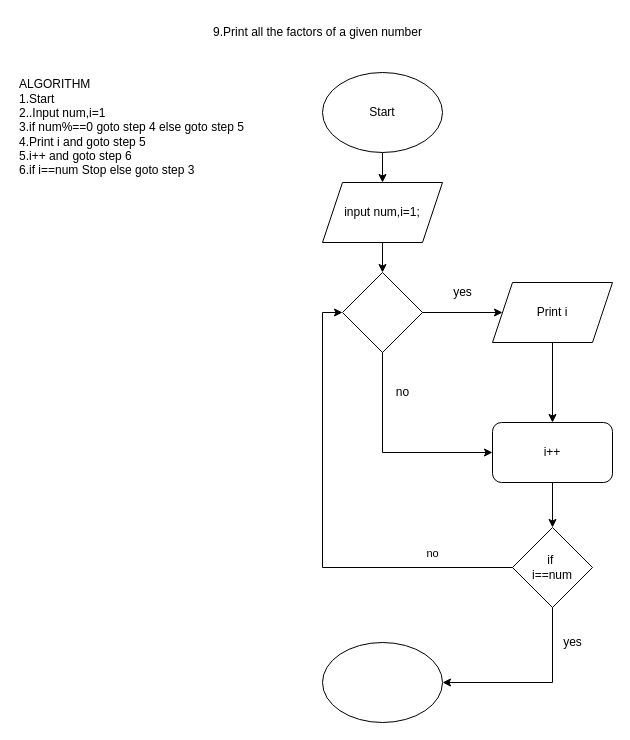
Image size: 630x740. Some labels were removed from this diagram. Each missing label, with the centre of its shape:
if num%i==0: pixel 382 312
Stop: pixel 382 682
